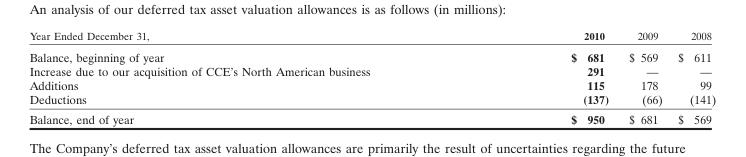table: (28, 28, 715, 125)
table column: (28, 28, 469, 125), (469, 28, 618, 125), (618, 28, 669, 125), (669, 28, 715, 125)
table column header: (28, 28, 715, 45)
table row: (28, 45, 715, 63), (28, 28, 715, 45), (28, 91, 715, 108), (28, 108, 715, 125), (28, 63, 715, 77), (28, 77, 715, 91)
